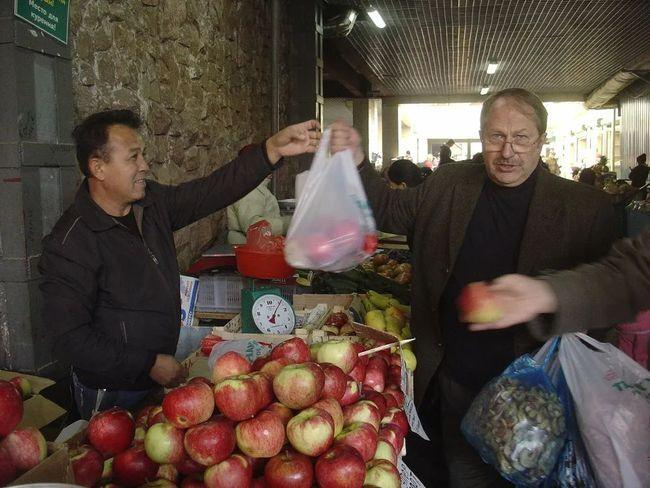apple: (161, 379, 216, 427), (286, 406, 337, 456), (234, 409, 284, 457), (274, 361, 325, 408), (213, 375, 262, 422), (184, 420, 234, 466), (87, 408, 134, 455), (316, 445, 367, 487), (113, 441, 160, 482), (264, 451, 313, 488), (336, 421, 380, 462), (144, 422, 186, 463), (204, 454, 253, 488), (67, 443, 105, 486), (316, 338, 359, 375)
